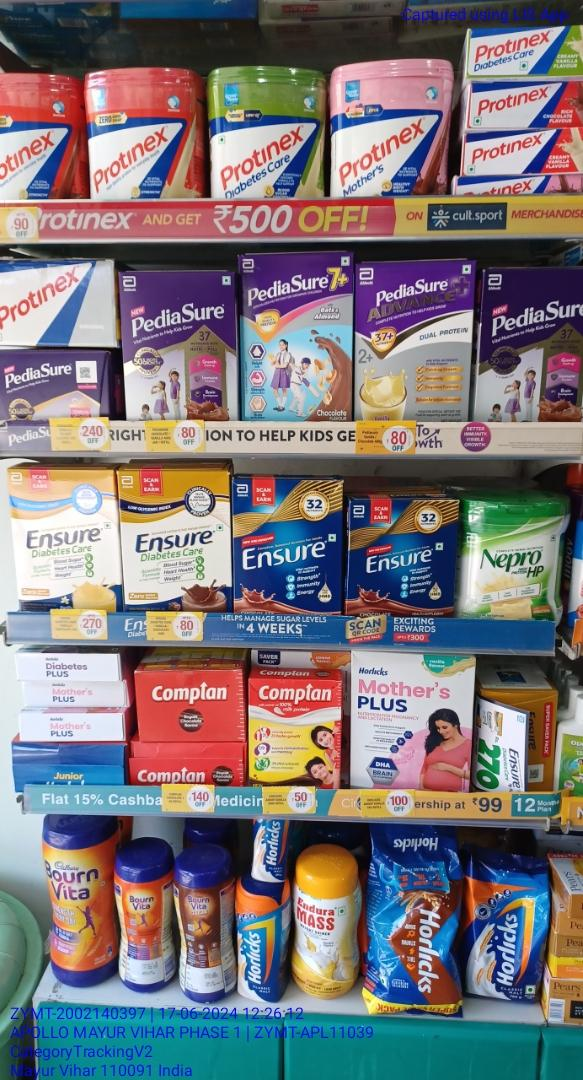BOURN_VITA_500_G_JAR: (43, 826, 113, 984)
COMPLAN_CHOCOLATE_500_GMS_PACK: (248, 680, 340, 786)
HORLICK_CLASSIC_MALT_200_G_JAR: (235, 881, 281, 1001)
PEDIASURE_7_PLUS_CHOCOLATE_400_G_PACK: (242, 253, 351, 421)
PEDIASURE_CHOCOLATE_500_G_PACK: (125, 269, 236, 417)
PROTINEX_VANILLA_400_G_JAR: (87, 67, 196, 196)
